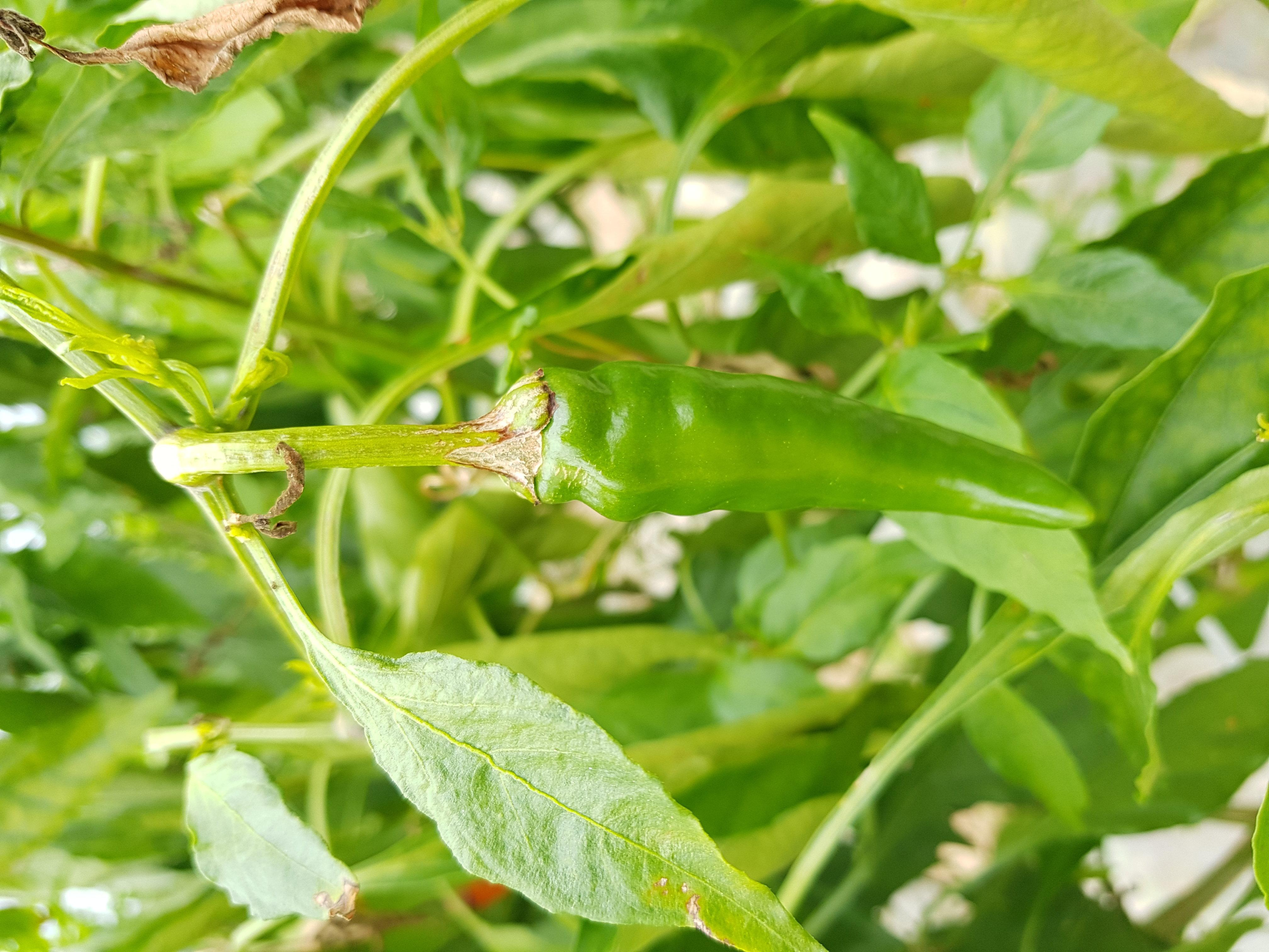Buah Cabai Sehat: (310, 633, 831, 952), (479, 357, 1100, 541)
